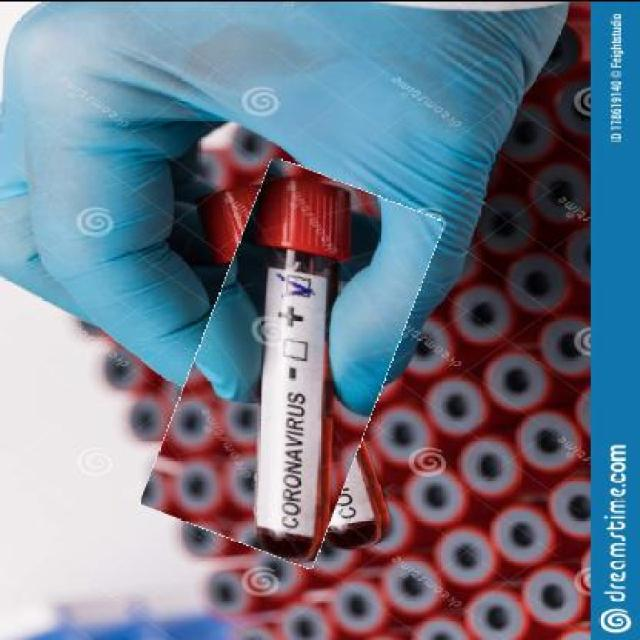Experimental-tube: (171, 166, 415, 557)
